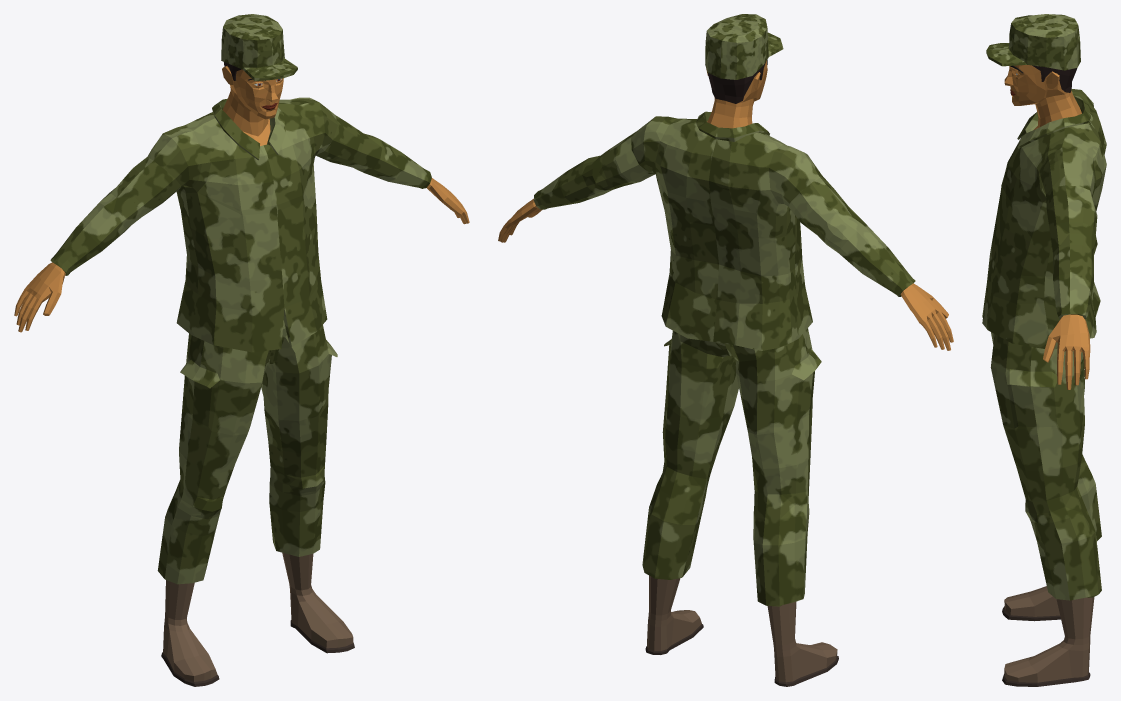
Rendered from SM_M_Soldier_M04.fbx.
3 views of the same model, side by side, from view 1: azimuth 30°, elevation 25°; view 2: azimuth 150°, elevation 25°; view 3: azimuth 270°, elevation 25° (orthographic).
Parts seen in each view (by area): view 1: Sphere, Circle; view 2: Sphere, Circle; view 3: Sphere, Circle.
Part boxes in pixels (x1,y1,x2,y2): Sphere: (14, 62, 469, 686); Circle: (221, 14, 297, 80); Sphere: (498, 59, 953, 686); Circle: (705, 14, 783, 79); Sphere: (982, 65, 1106, 686); Circle: (986, 14, 1080, 70).
Bounding box in the file's own units: 129 × 172 × 31.25.
